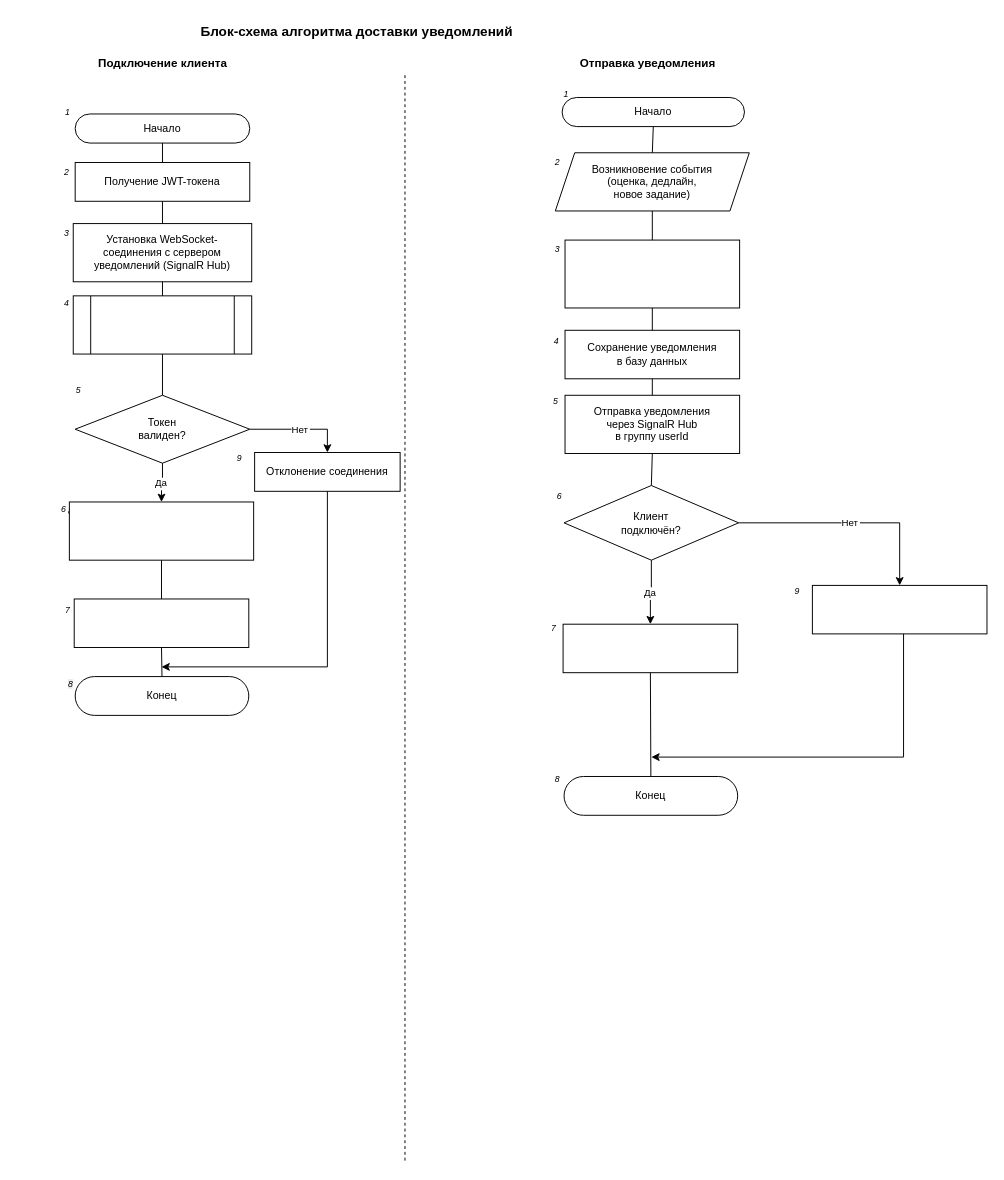
This 1004x1180 diagram has some shape labels left out. Here are the shapes that lost their labels. From the top down, the box of each, then its label:
(564, 239, 740, 308): Создание записи Notification в БД: userId, тип, заголовок, текст, IsRead = false
(72, 295, 252, 354): Проверка JWT-токена
(68, 501, 254, 560): Извлечение userId. Добавление соединения в группу пользователя
(73, 598, 249, 647): Ожидание входящих уведомлений
(811, 584, 987, 634): Уведомление доступно при следующем запросе
(562, 623, 738, 673): Мгновенная доставка по WebSocket
